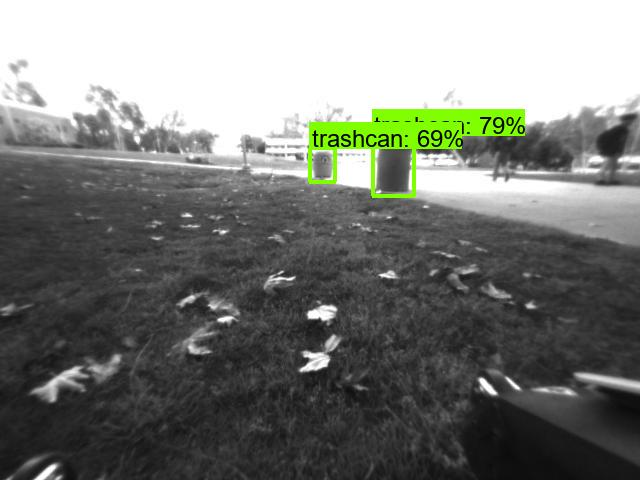trashcan: (377, 142, 411, 196), (316, 150, 340, 181)
